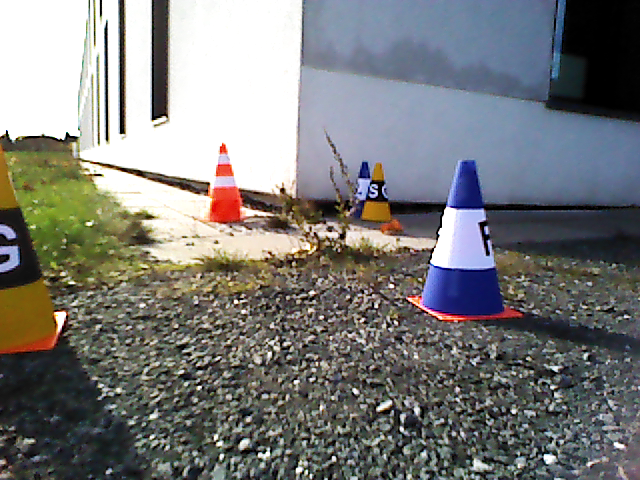bluecone: (427, 160, 504, 312)
orangeconesmall: (210, 144, 242, 200)
yellowcone: (1, 143, 50, 348), (363, 163, 392, 220)
